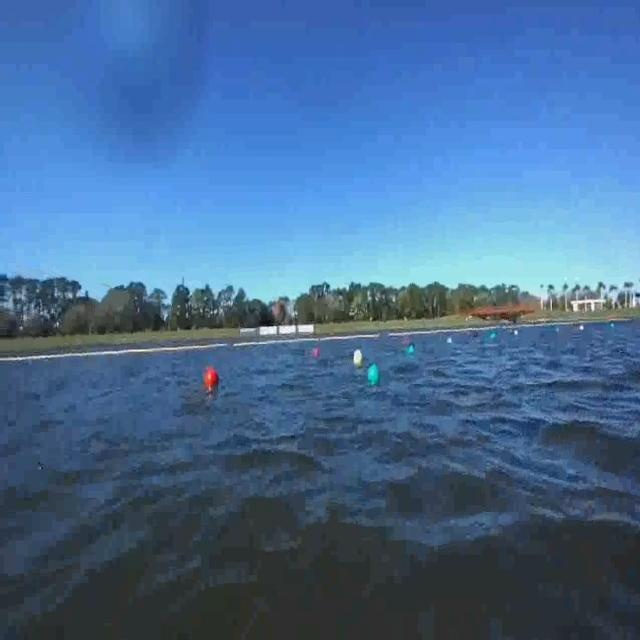green-buoy: (366, 363, 379, 385), (408, 345, 416, 357)
red-buoy: (205, 367, 221, 388), (314, 348, 320, 358)
